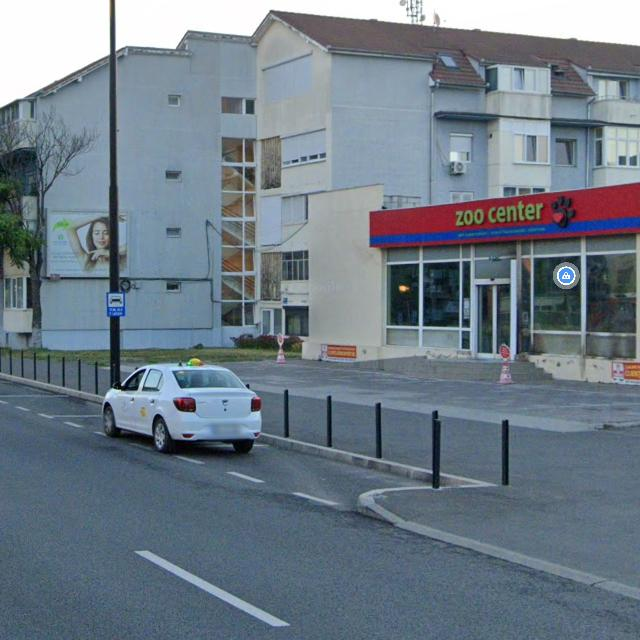info_bus_station: (107, 292, 125, 316)
